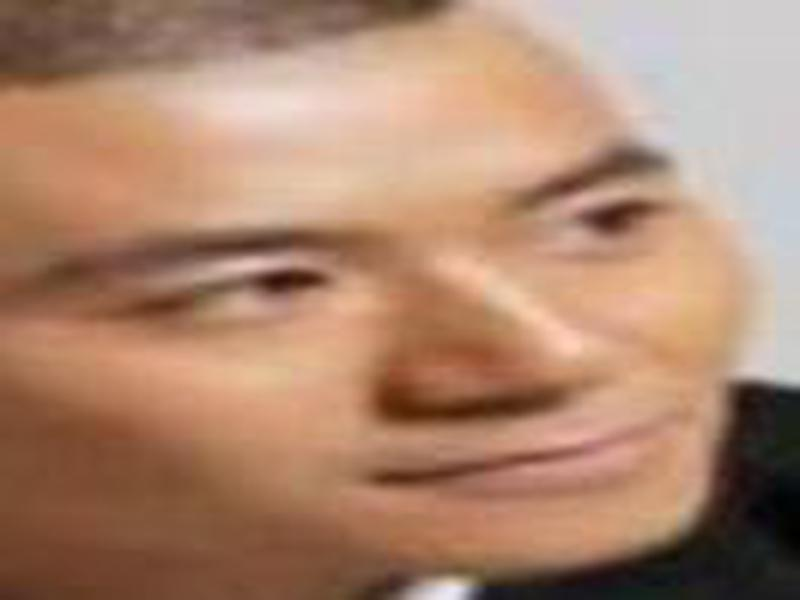without_mask: (17, 33, 765, 597)
